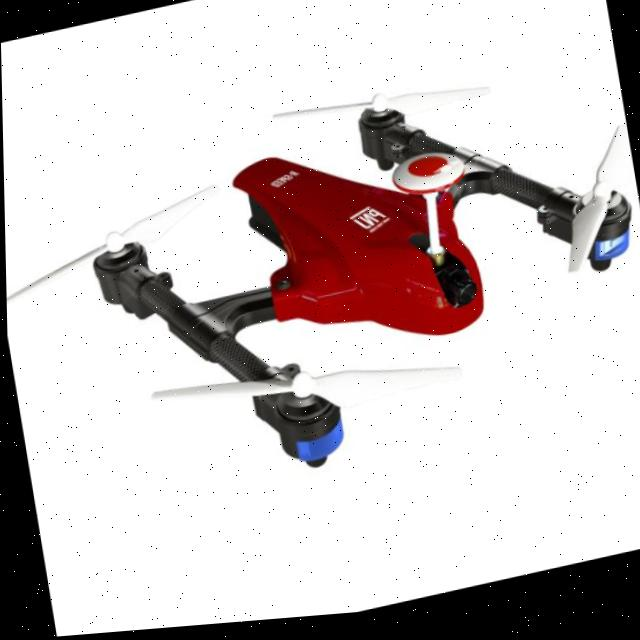drones: (1, 17, 640, 573)
